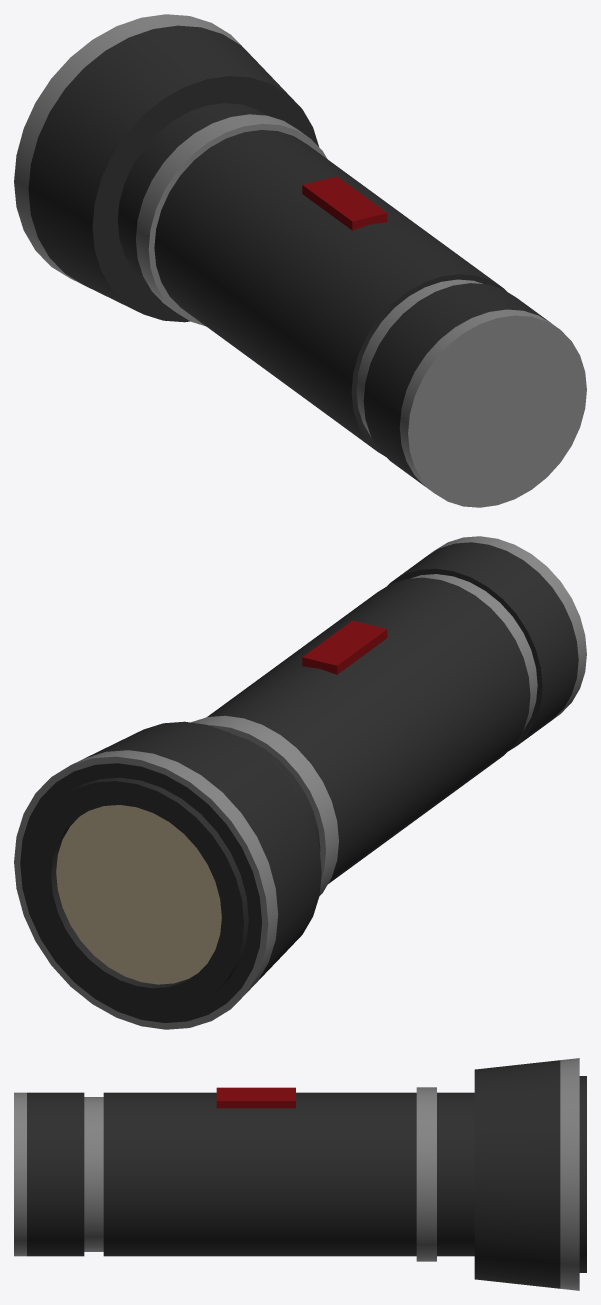
Rendered from torch.glb.
The picture shows the model from 3 angles, top to bottom: view 1: azimuth 30°, elevation 25°; view 2: azimuth 150°, elevation 25°; view 3: azimuth 270°, elevation 25°; orthographic projection. The views are drawn at different scales.
Parts seen in each view (by area): view 1: Cylinder; view 2: Cylinder; view 3: Cylinder.
Part boxes in pixels (x1,y1,x2,y2): Cylinder: (14,14,586,507); Cylinder: (14,536,586,1029); Cylinder: (14,1058,586,1290).
Bounding box in the file's own units: 0.68 × 0.68 × 1.67.
